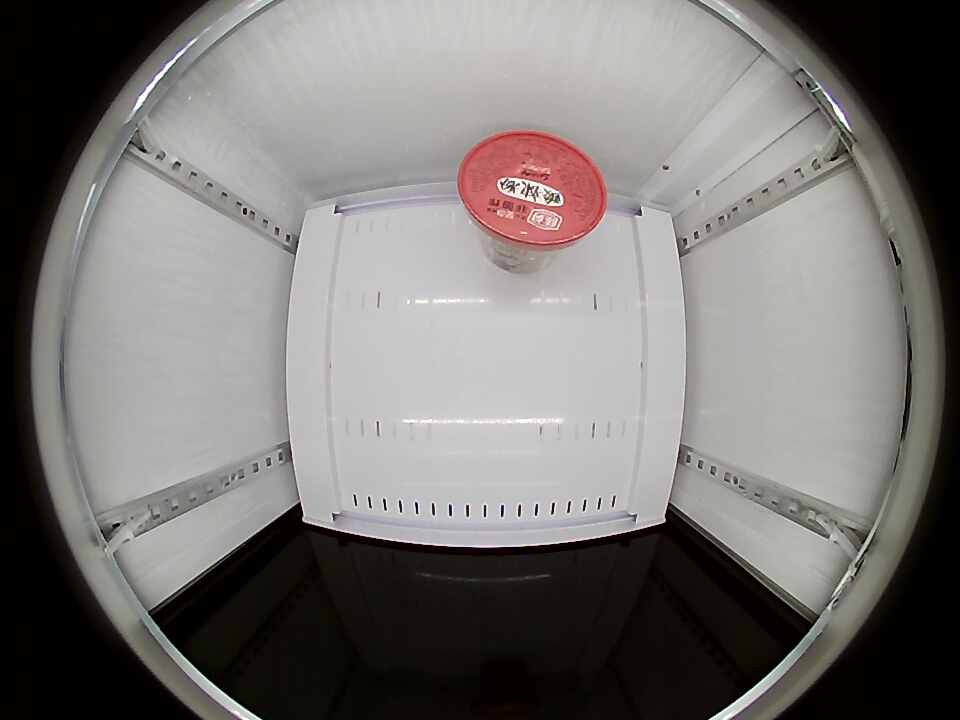suanlafen: (457, 131, 607, 254)
